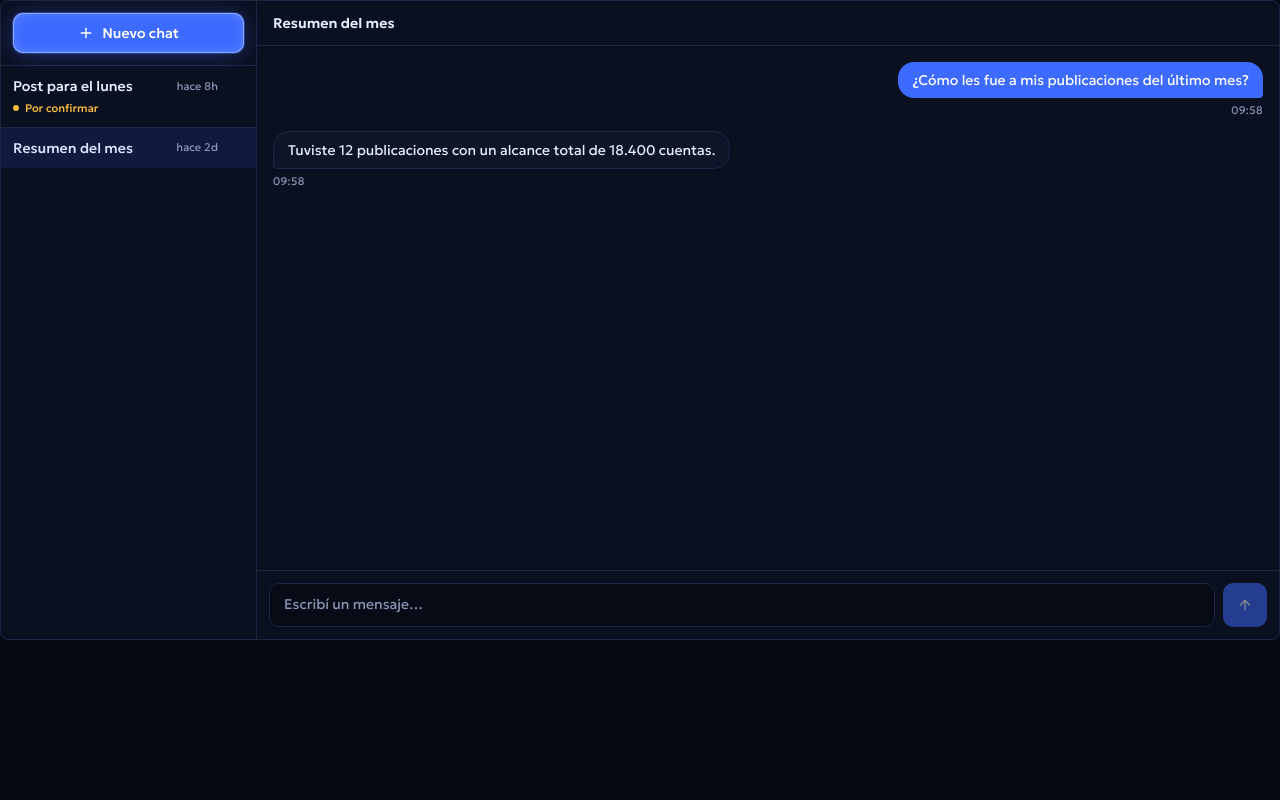
it: Agente — errores del backend (503, 502, 409, 422) y sugerencias › ante un 422 muestra el message junto al composer
Expected: the text "Tuviste 12 publicaciones con un alcance total de 18.400 cuentas." is shown, [288,140,715,160]
Type "Hola" into the text box named "Mensaje para el agente" at [742, 605], box [269,583,1215,627]
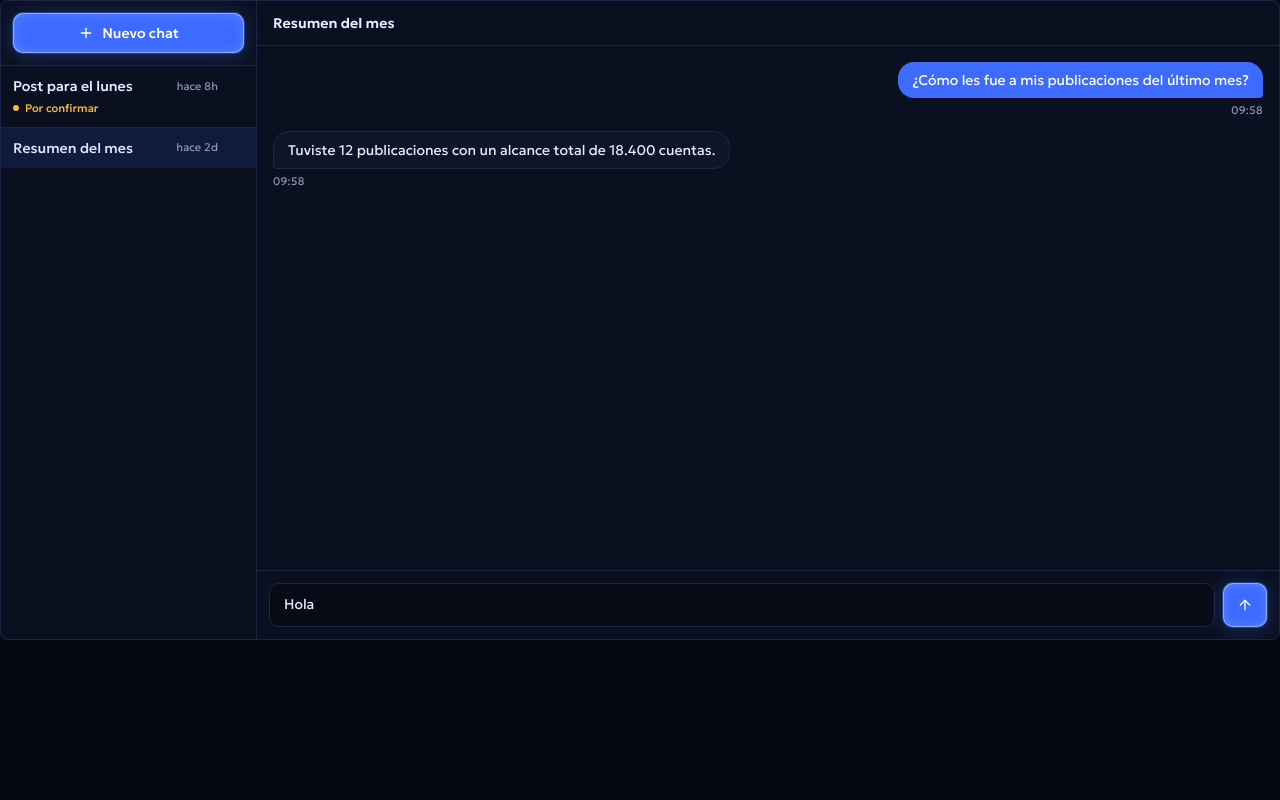
Click the button named "Enviar mensaje" at [1245, 605], box [1223,583,1267,627]
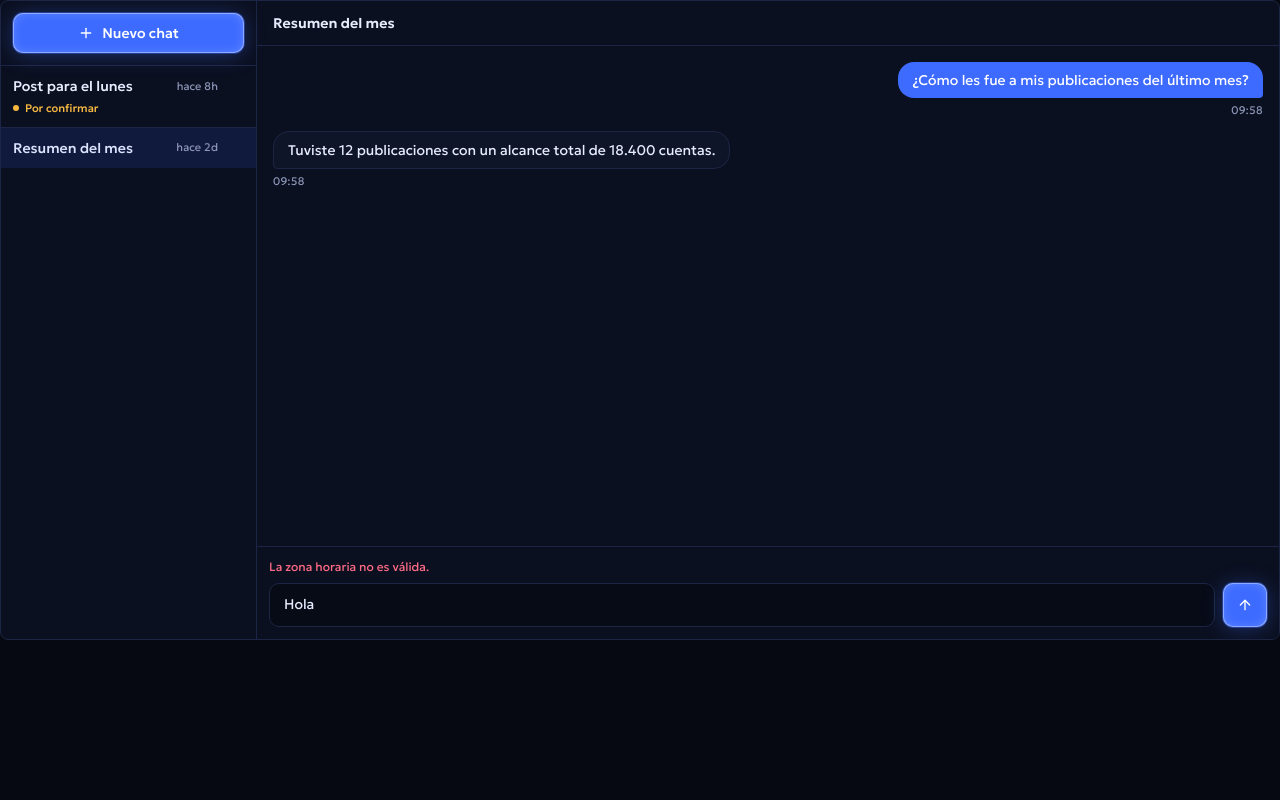
Expected: the message reads "La zona horaria no es válida.", [269,559,429,574]
